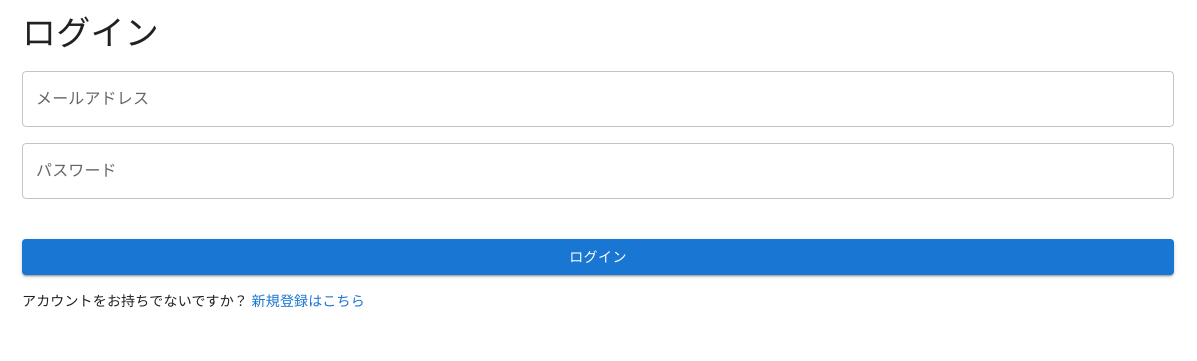
Test: Login › ログイン失敗時、エラーメッセージを表示する
Type "test@example.com" into the field labelled "メールアドレス" at (598,99), box [22, 71, 1174, 127]
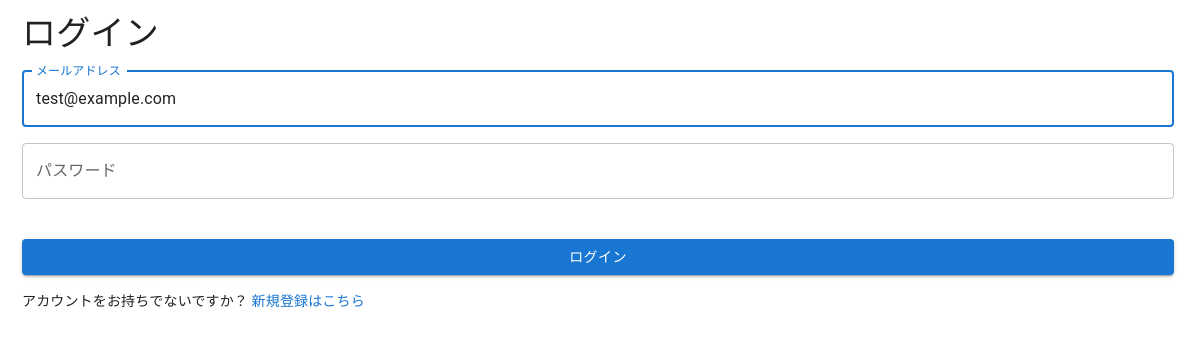
Type "wrongpassword" into the password field labelled "パスワード" at (598,171), box [22, 143, 1174, 199]
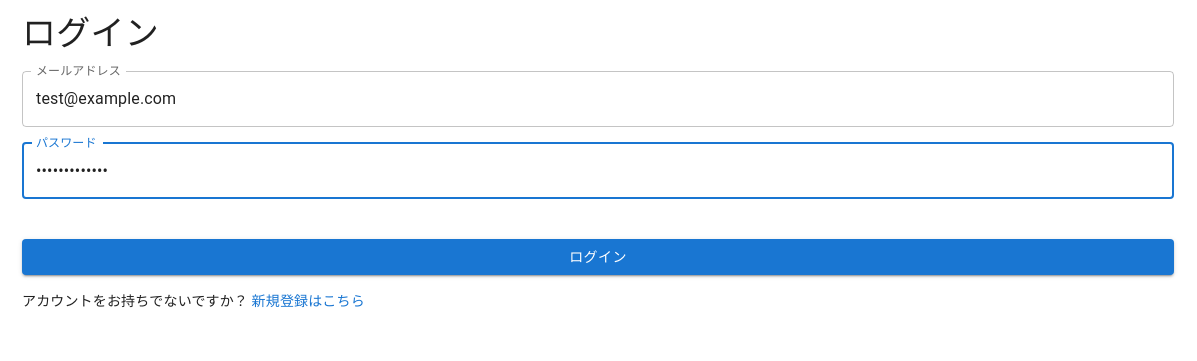
Click the button "ログイン" at (598,257), box [22, 239, 1174, 276]
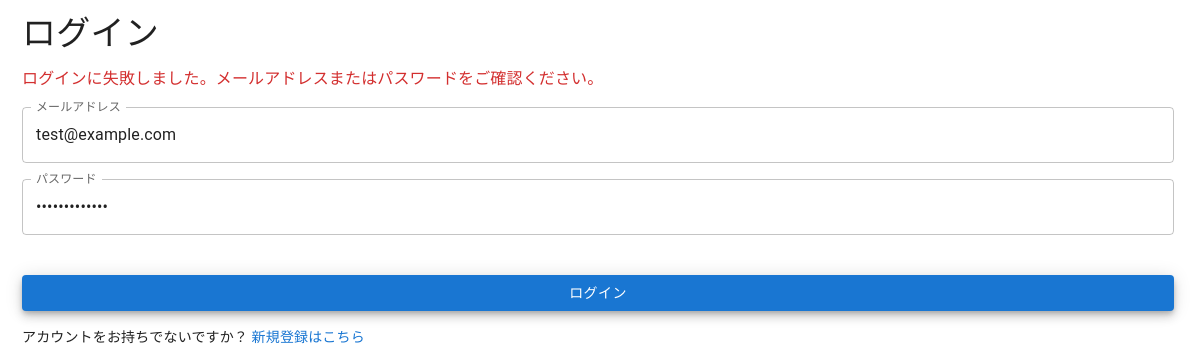
Expected: the text "ログインに失敗しました。メールアドレスまたはパスワードをご確認ください。" is shown, [22, 69, 603, 88]
